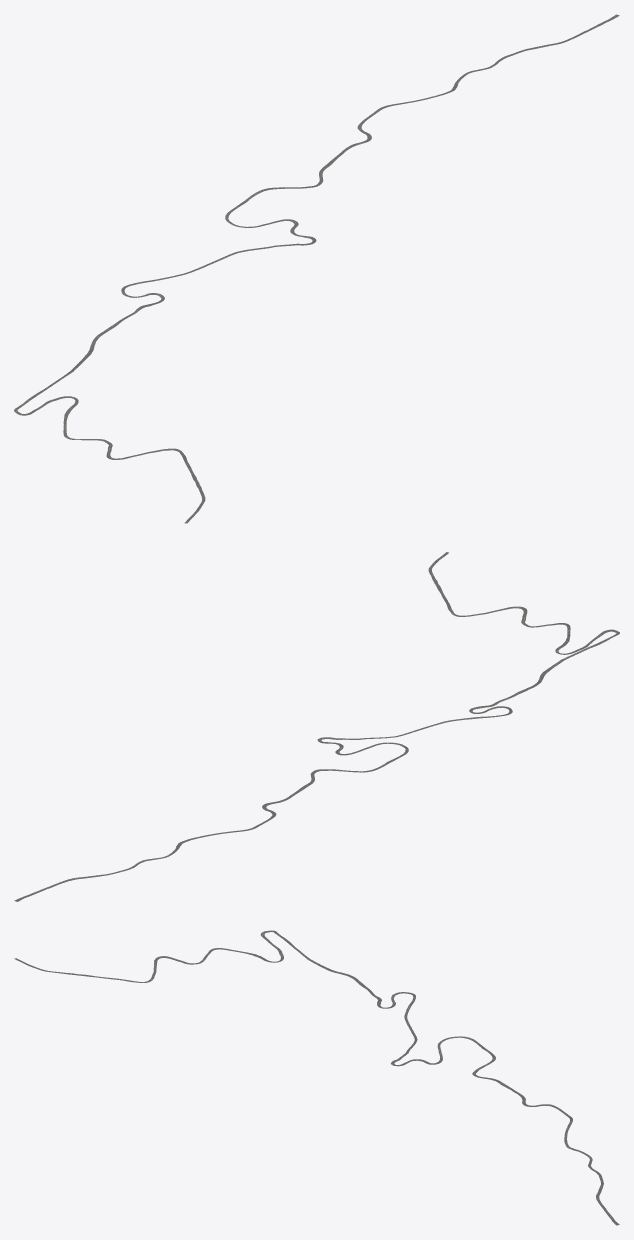
Rendered from route_habillee.glb.
The picture shows the model from 3 angles, top to bottom: view 1: azimuth 30°, elevation 25°; view 2: azimuth 210°, elevation 25°; view 3: azimuth 270°, elevation 25°; orthographic projection. The views are drawn at different scales.
Visible parts, largest first — view 1: chaussee; view 2: chaussee; view 3: chaussee.
Part boxes in pixels (x1=…): chaussee: x1=14, y1=14, x2=619, y2=523; chaussee: x1=14, y1=552, x2=619, y2=901; chaussee: x1=14, y1=930, x2=619, y2=1225.
Bounding box in the file's own units: 1976 × 189 × 1433.
Materials: 2 (1 with a texture image).
